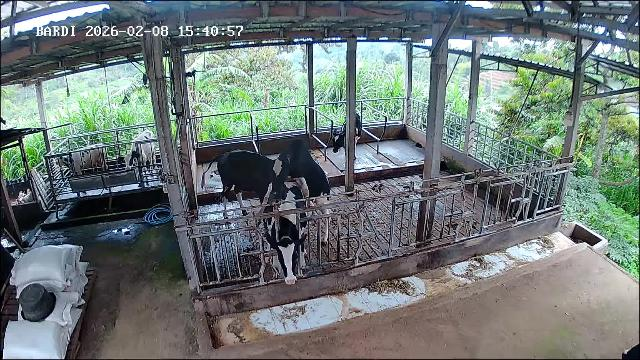mounting: (252, 139, 332, 246)
